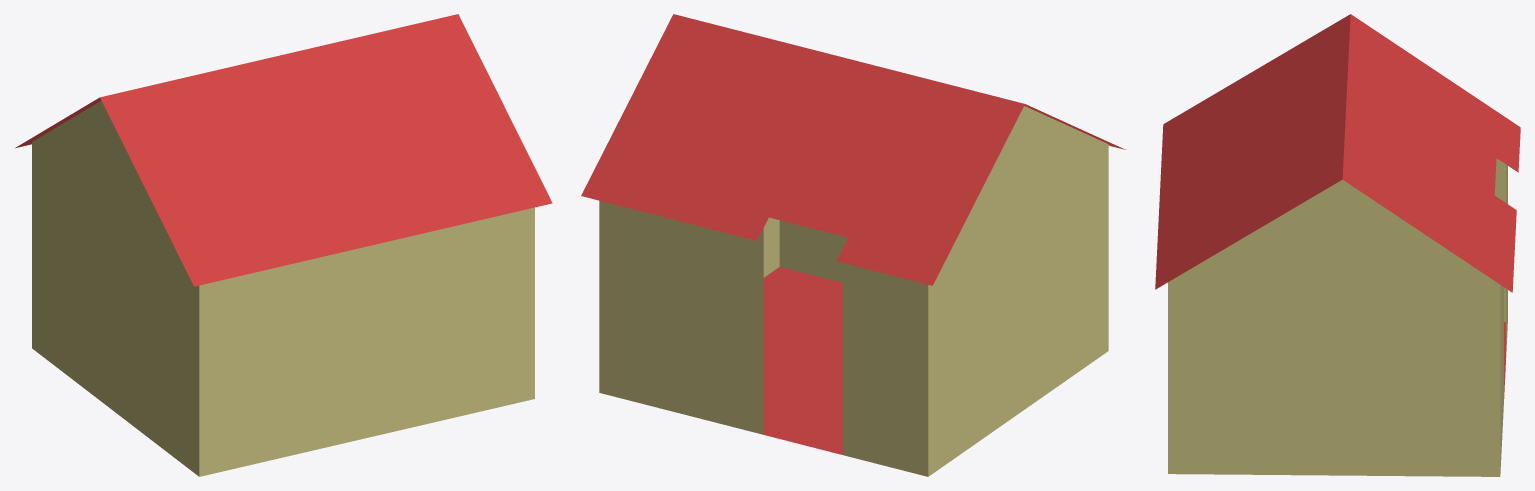
The picture shows the model from 3 angles, left to right: view 1: azimuth 30°, elevation 25°; view 2: azimuth 150°, elevation 25°; view 3: azimuth 270°, elevation 25°; orthographic projection. The views are drawn at different scales.
Bounding box in the file's own units: 15.83 × 14.5 × 13.19.
